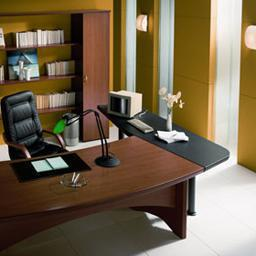Armario: (80, 10, 110, 139)
Bote de Basura: (62, 112, 79, 147)
Ventana: (215, 2, 237, 149), (160, 0, 174, 116), (125, 2, 135, 89)
